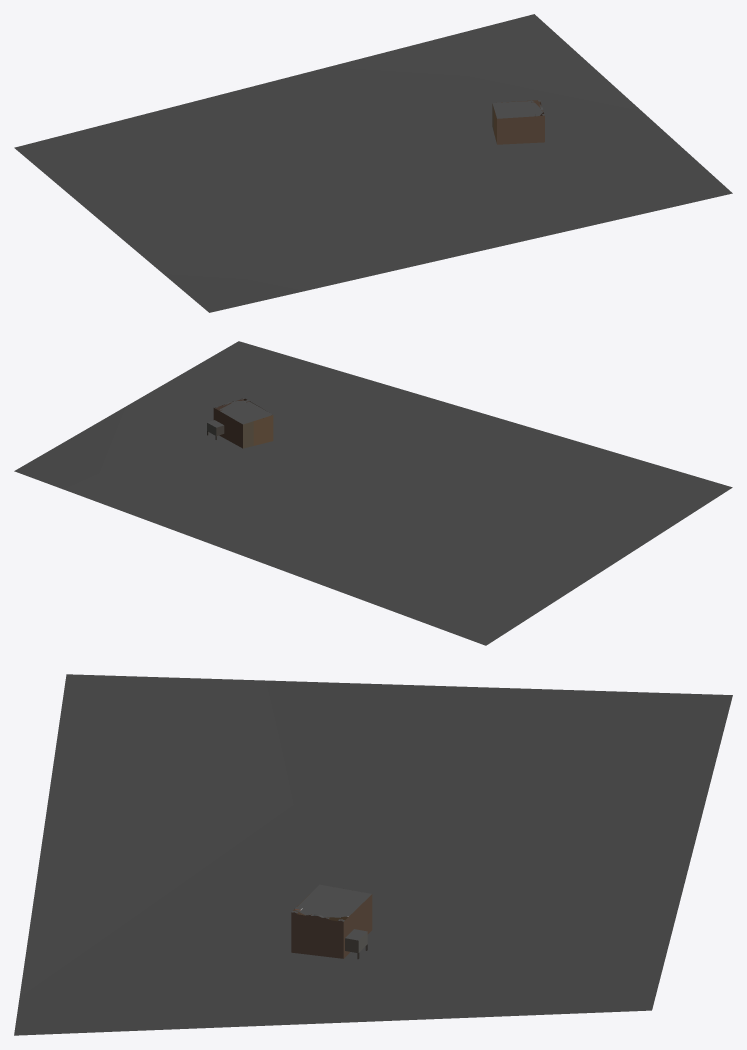
File: 811-lindsay-street.glb
3 renders of one model, top to bottom at view 1: azimuth 30°, elevation 25°; view 2: azimuth 150°, elevation 25°; view 3: azimuth 270°, elevation 25°, orthographic. The views are drawn at different scales.
Parts seen in each view (by area): view 1: LOD0; view 2: LOD0; view 3: LOD0.
Boxes of the visible parts, x1,y1,x2,y2 form: LOD0: (14, 14, 732, 312); LOD0: (14, 341, 732, 645); LOD0: (14, 674, 732, 1035).
Size of what is drawn, in the model's own units: 214 by 17.94 by 170.
Materials: 2 (2 with a texture image).
